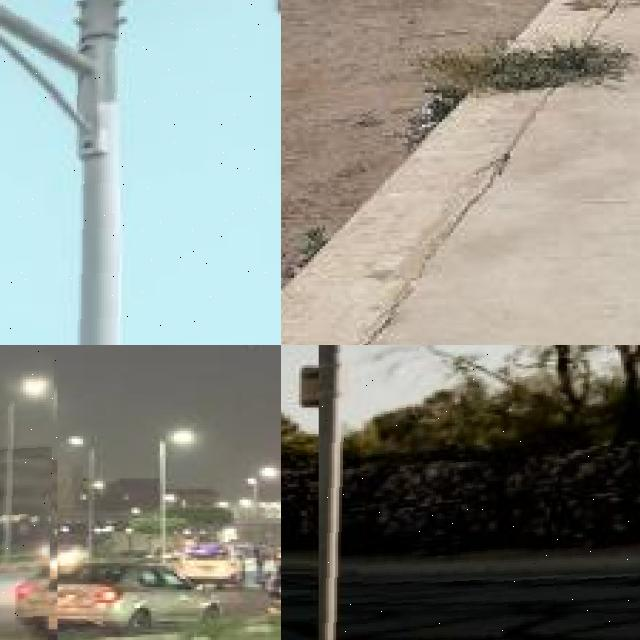street light: (0, 0, 281, 345), (319, 345, 640, 640), (0, 345, 57, 640), (0, 399, 38, 571), (160, 428, 192, 567), (72, 436, 97, 561), (254, 468, 275, 555)
